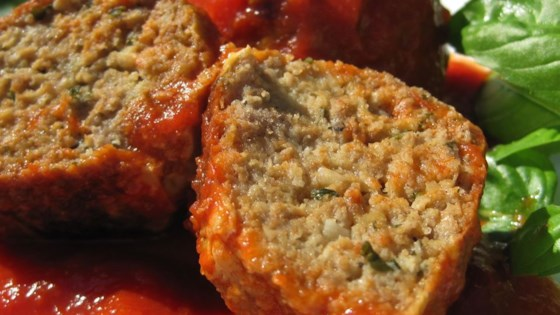chopped lettuce: (482, 6, 560, 259)
meatballs: (194, 41, 489, 315), (1, 8, 189, 227)
